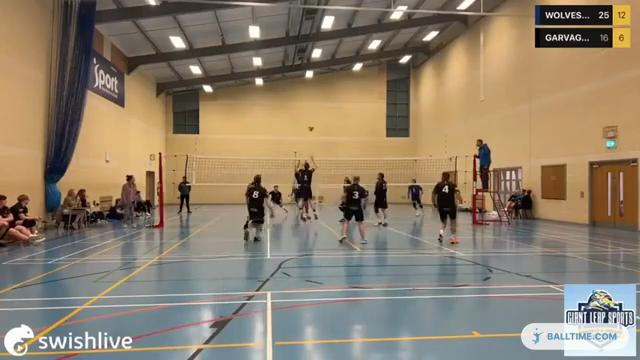Block: (291, 154, 323, 224)
Player: (432, 172, 459, 243), (244, 175, 272, 241), (339, 176, 366, 243), (374, 172, 387, 226), (268, 185, 287, 213), (408, 179, 422, 215), (339, 199, 345, 222)
ball: (306, 124, 317, 133)
